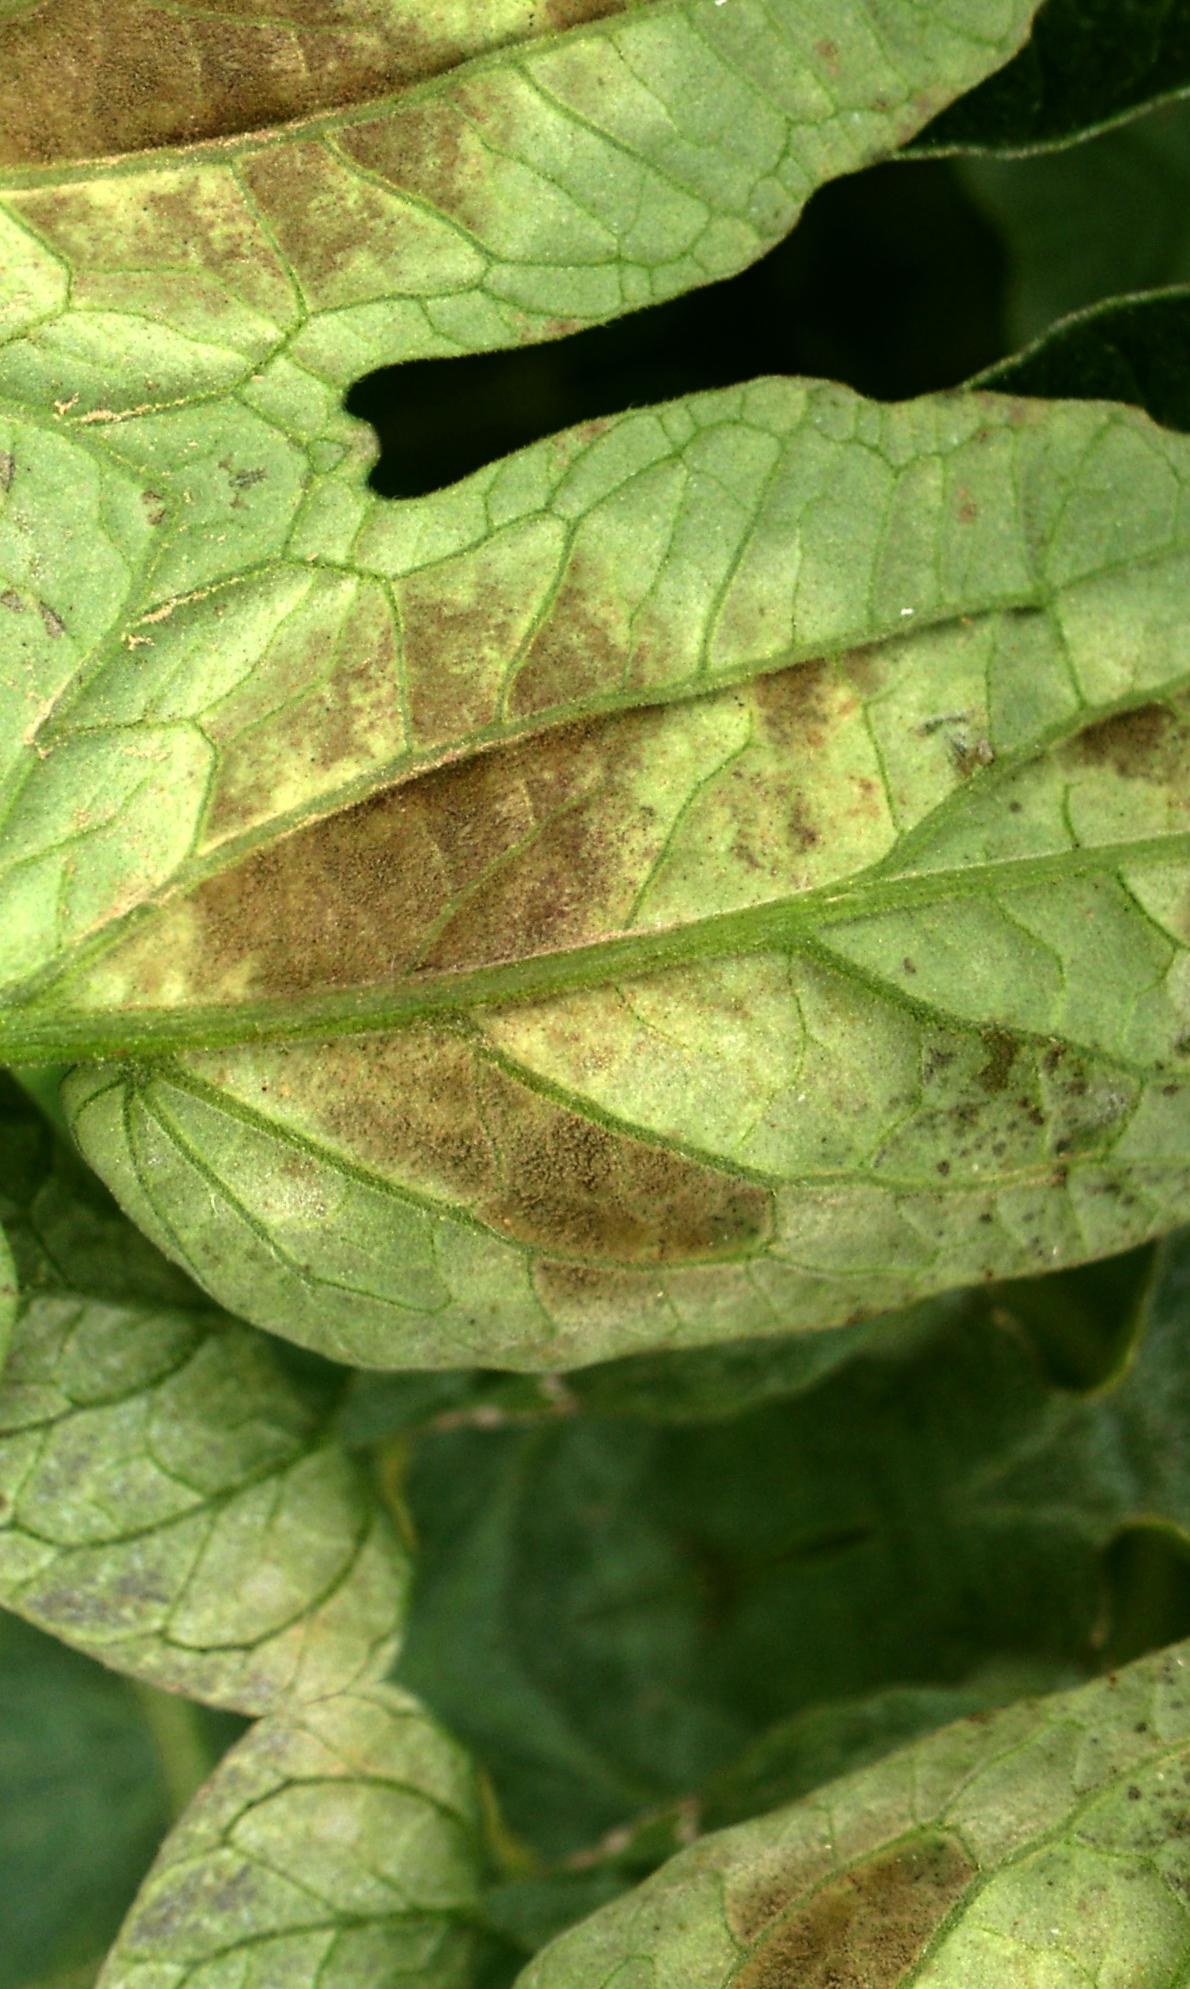Tomato mold leaf: (0, 166, 1190, 1704), (0, 1061, 517, 1835)
